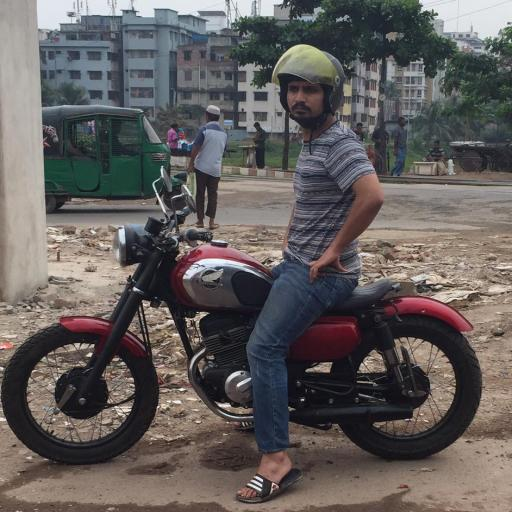helmet: (270, 43, 346, 115)
